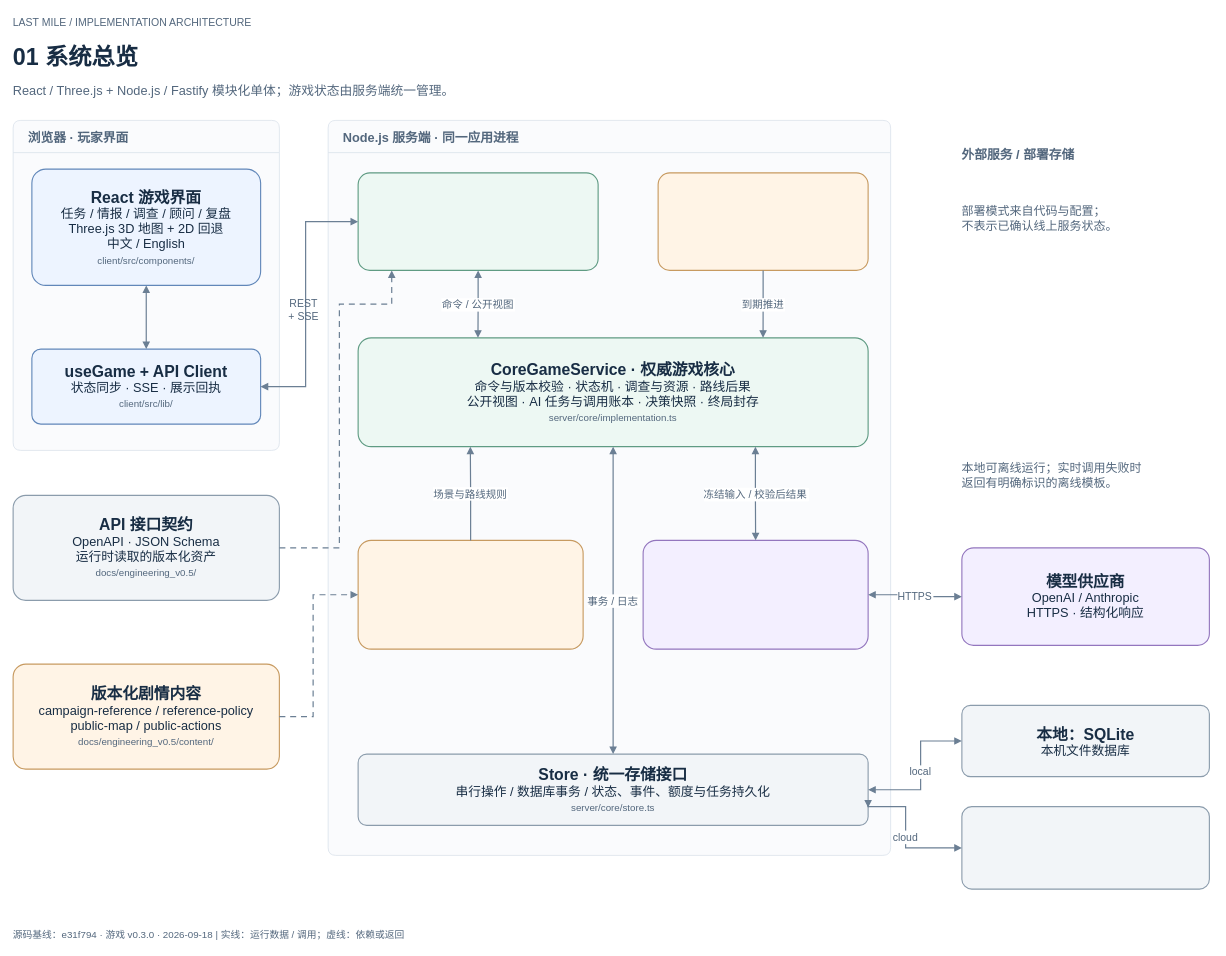
The diagram is 1226 pixels wide and 956 high, and some of its shapes have lost their labels. The centre of each missing label's shape, as x and y in pixels:
AI Gateway Advisor / 独立 Evaluator 白名单输入 · 输出校验 · 降级 server/ai/: point (755, 594)
Fastify HTTP REST /api/v1 + SSE 鉴权 · 契约校验 · 静态资源 server/http/app.ts: point (477, 221)
World · 场景规则 两套隐藏剧本 / 三个关卡 路线计划 · 条件等待 · 位置解析 server/core/world.ts: point (470, 594)
云端：PostgreSQL Render 配置 + Neon 部署说明 数据库锁保证单个运行引擎: point (1085, 847)
调度器 / Scheduler 每 1 秒 tick 命令前补齐到期事件: point (762, 221)
